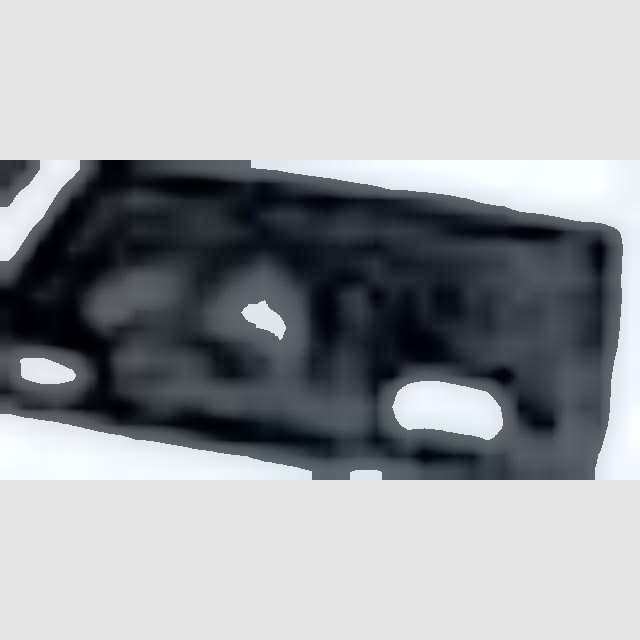tidak-pakai: (96, 224, 304, 384)
